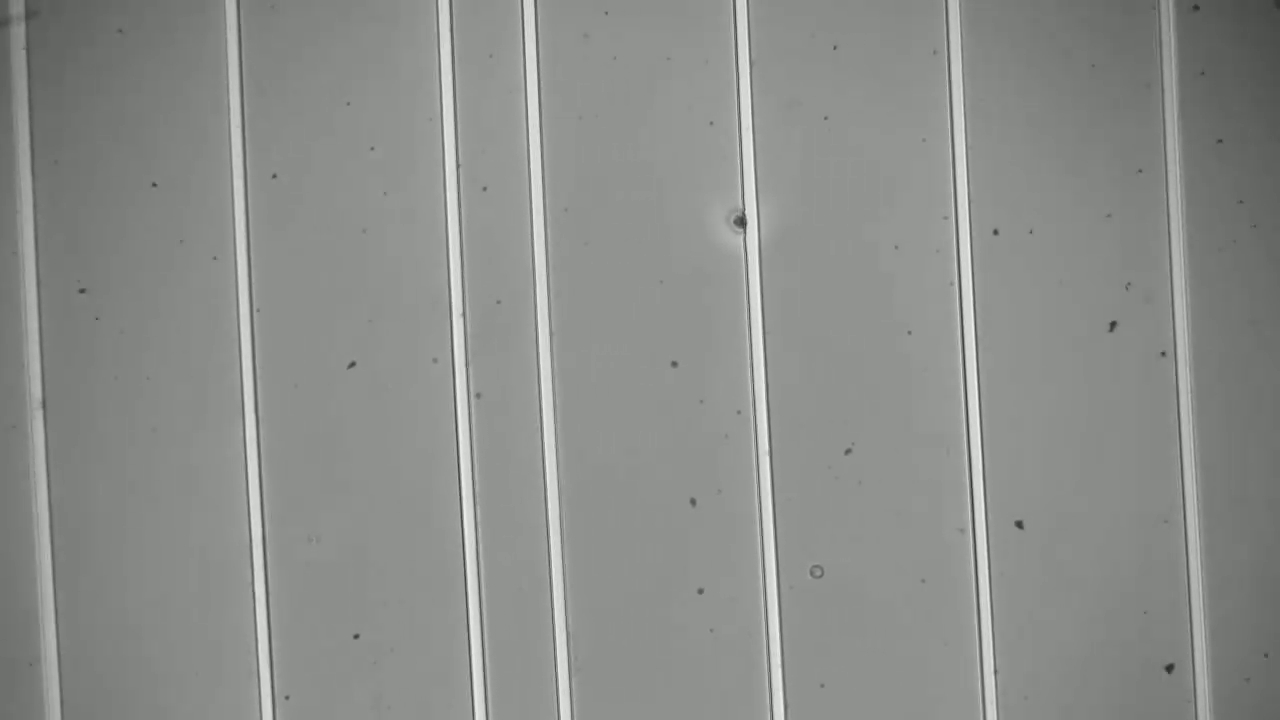stains_enbedded: (726, 196, 766, 245)
